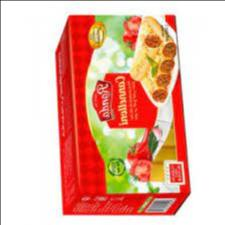Cannelloni: (56, 15, 189, 215)
